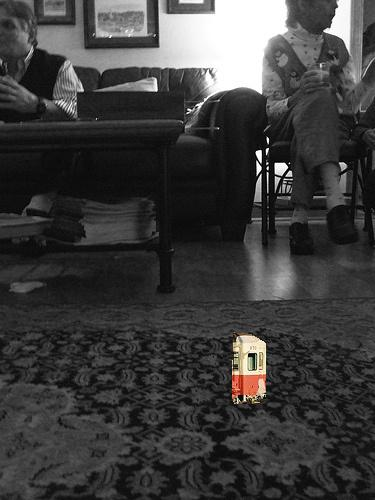tampered: (233, 333, 266, 404)
